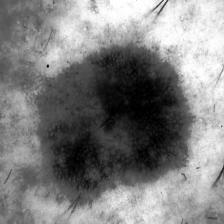Benign Marking or Mole: (33, 47, 188, 200)
